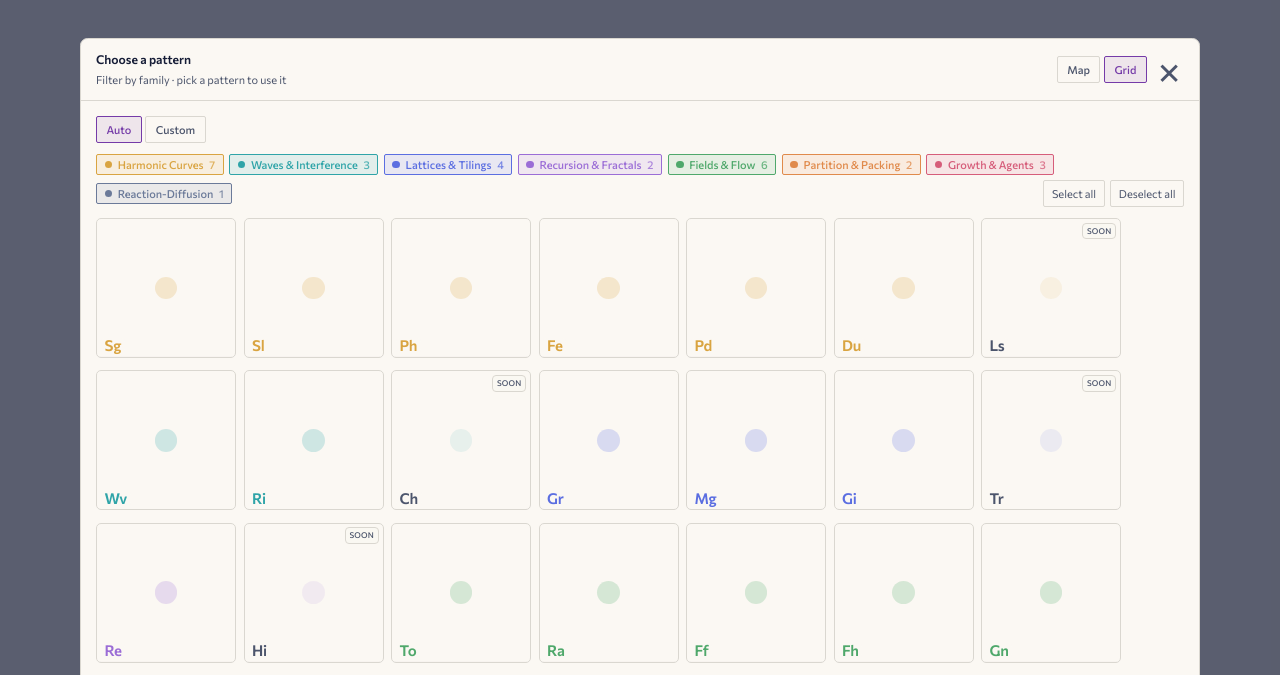
Test: PatternPickerModal — current Map (periodic-table) rendering [characterization] › renders a known taxonomy row label (SPATIAL_FORM_ROWS)
Click the tab "Map": (1079, 69) [1057,56,1100,83]
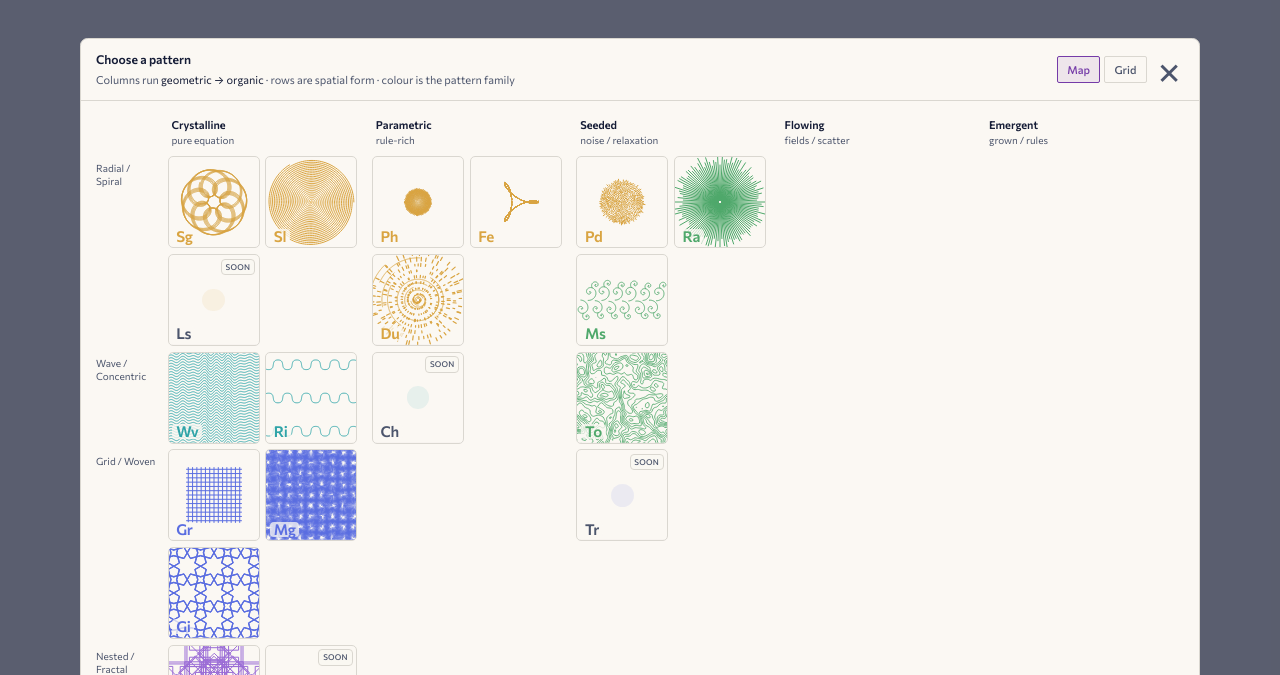
Expected: the text "Radial / Spiral" is shown, [96,162,130,186]
Expected: the text "Grid / Woven" is shown, [96,449,162,467]
